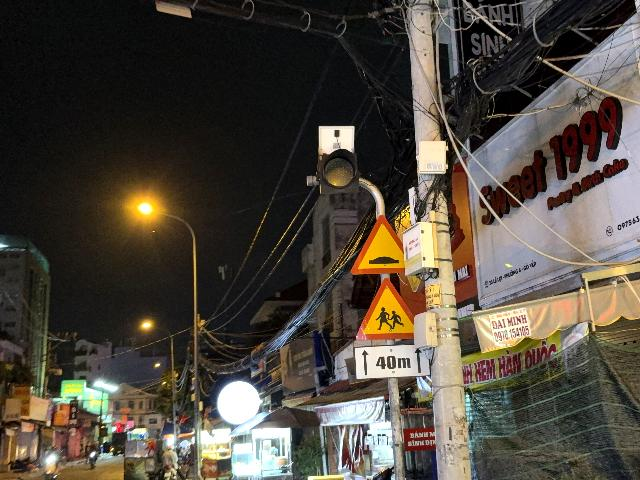duong-co-go-giam-toc: (351, 215, 404, 274)
tre-em-qua-duong: (356, 278, 414, 341)
